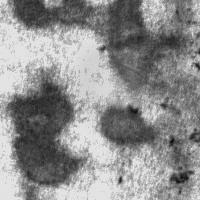patches: (1, 66, 84, 193), (98, 1, 163, 94), (80, 45, 156, 121), (93, 101, 160, 149), (7, 1, 101, 29), (166, 164, 194, 188)
